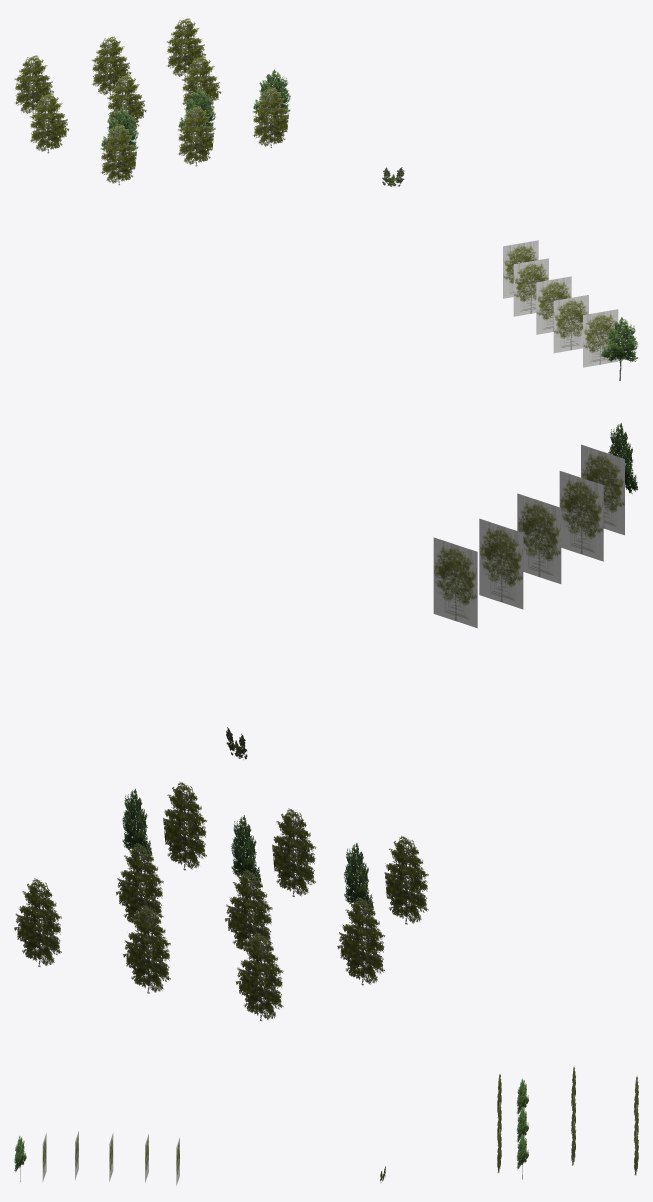
File: rightGrow.FBX
The picture shows the model from 3 angles, top to bottom: view 1: azimuth 30°, elevation 25°; view 2: azimuth 150°, elevation 25°; view 3: azimuth 270°, elevation 25°; orthographic projection. The views are drawn at different scales.
Parts seen in each view (by area): view 1: rightGrow; view 2: rightGrow; view 3: rightGrow.
Boxes of the visible parts, x1=… form: rightGrow: x1=14, y1=18, x2=637, y2=380; rightGrow: x1=14, y1=423, x2=638, y2=1020; rightGrow: x1=14, y1=1065, x2=638, y2=1185.
Bounding box in the file's own units: 3070 × 800 × 9206.
